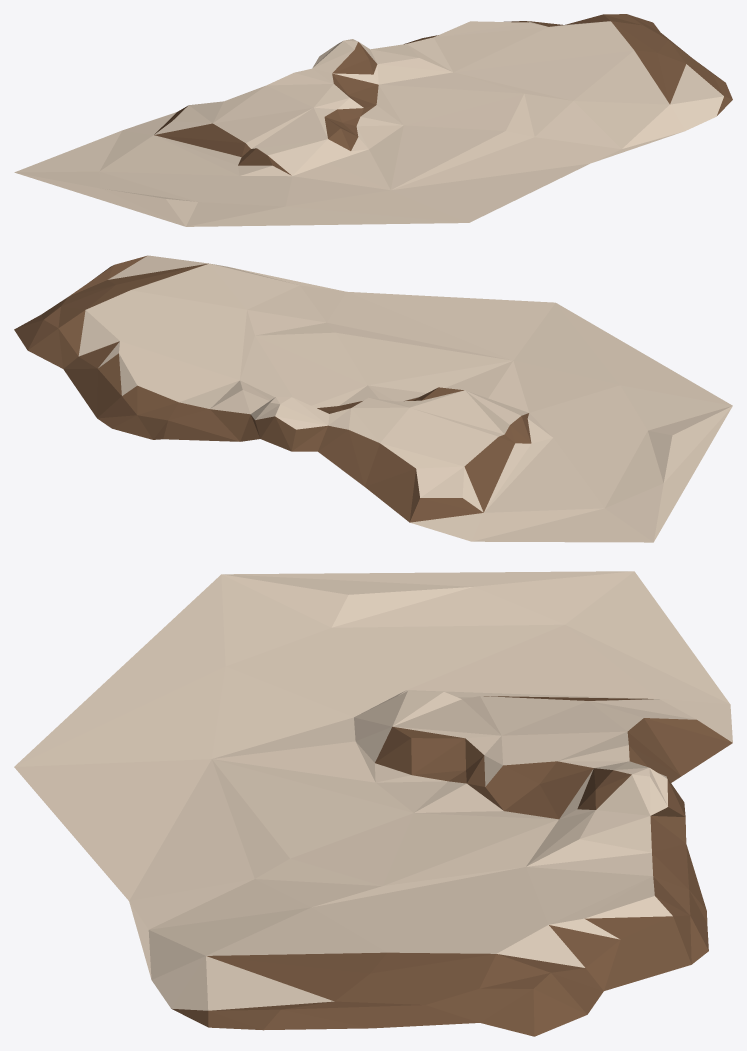
The model's file is Terrain_Sand_Rock_012.fbx.
The picture shows the model from 3 angles, top to bottom: view 1: azimuth 30°, elevation 25°; view 2: azimuth 150°, elevation 25°; view 3: azimuth 270°, elevation 25°; orthographic projection. The views are drawn at different scales.
Parts seen in each view (by area): view 1: Terrain_Sand_Rock_012; view 2: Terrain_Sand_Rock_012; view 3: Terrain_Sand_Rock_012.
Part boxes in pixels (x1,y1,x2,y2): Terrain_Sand_Rock_012: (14,14,732,226); Terrain_Sand_Rock_012: (14,255,732,542); Terrain_Sand_Rock_012: (14,571,732,1036).
Size of the model in its own units: 29.89 by 2.79 by 18.01.
